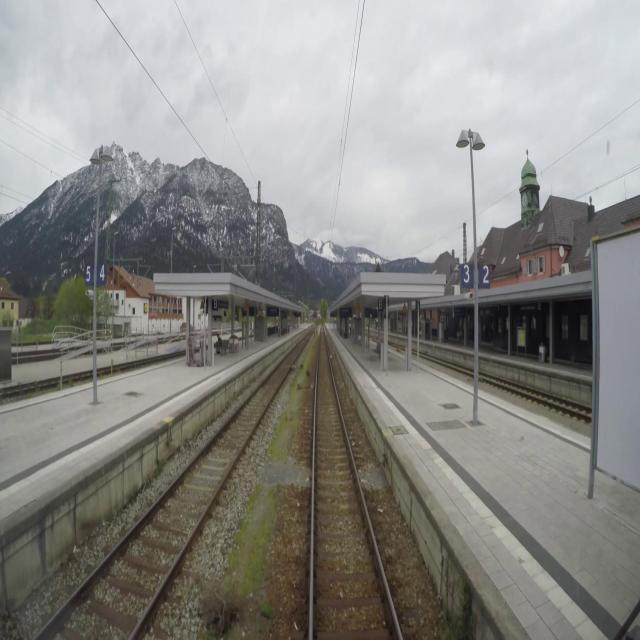rail-track: (46, 337, 307, 639), (313, 329, 397, 639)
